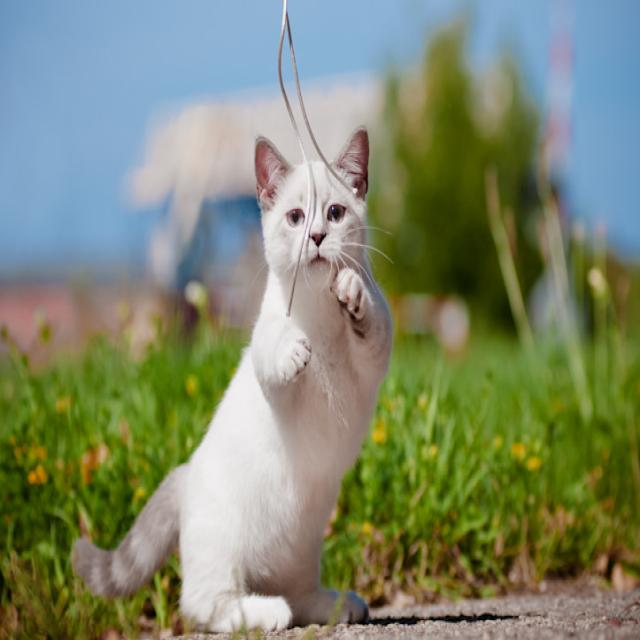Munchkin: (66, 118, 395, 640)
